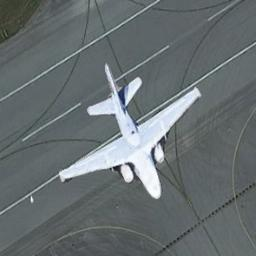Airplane: (52, 56, 202, 202)
